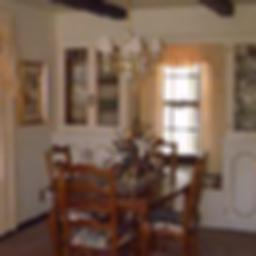Armario: (57, 39, 131, 135)
